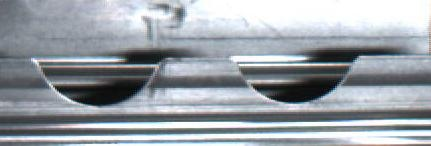twou: (38, 48, 360, 116)
